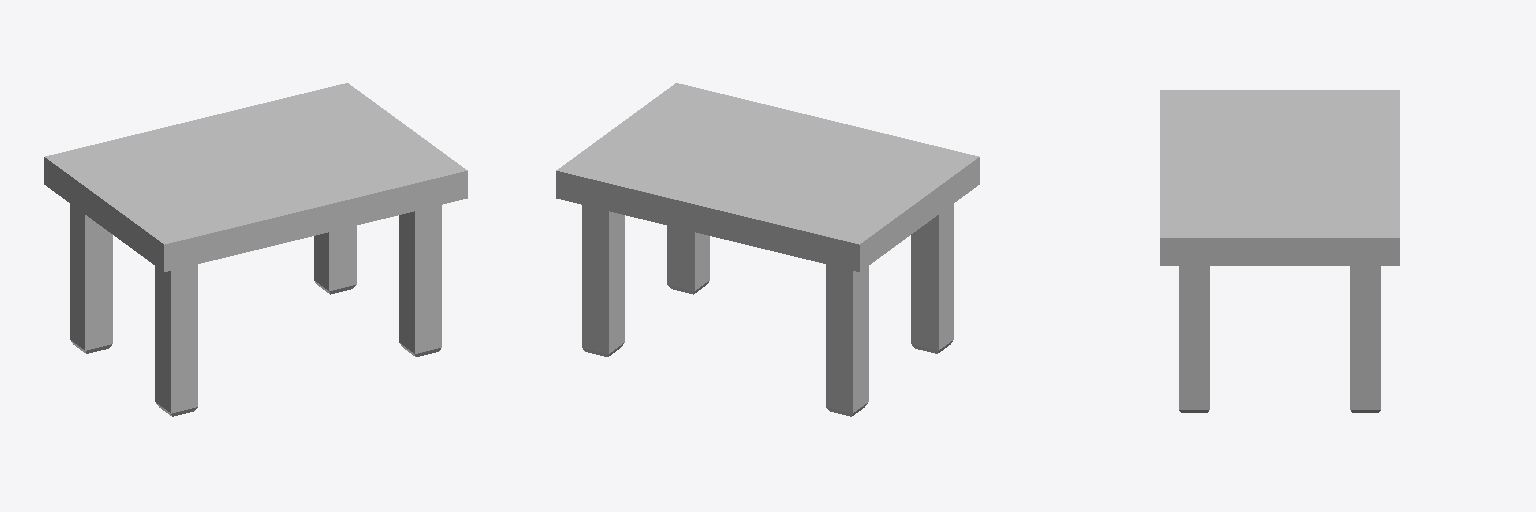
File: table.obj
3 renders of one model, left to right at view 1: azimuth 30°, elevation 25°; view 2: azimuth 150°, elevation 25°; view 3: azimuth 270°, elevation 25°, orthographic.
Visible parts, largest first — view 1: Cube_Cube.001; view 2: Cube_Cube.001; view 3: Cube_Cube.001.
Boxes of the visible parts, box(x1,y1,x2,y2) form: Cube_Cube.001: box(44, 83, 467, 416); Cube_Cube.001: box(556, 83, 979, 416); Cube_Cube.001: box(1160, 90, 1399, 412).
Size of the model in its own units: 3.71 by 2.16 by 2.54.